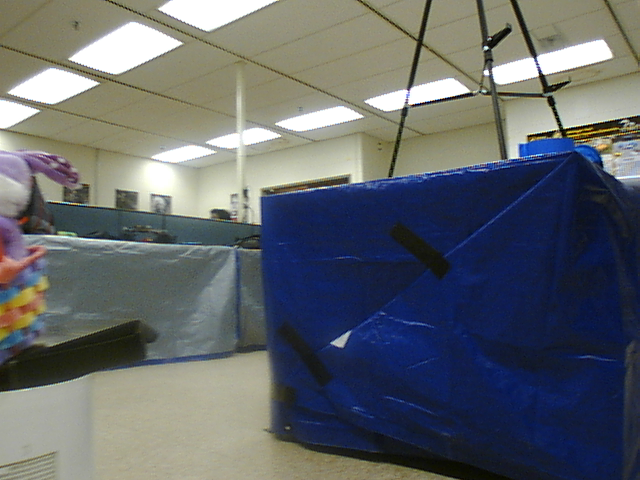bunny: (1, 146, 83, 353)
